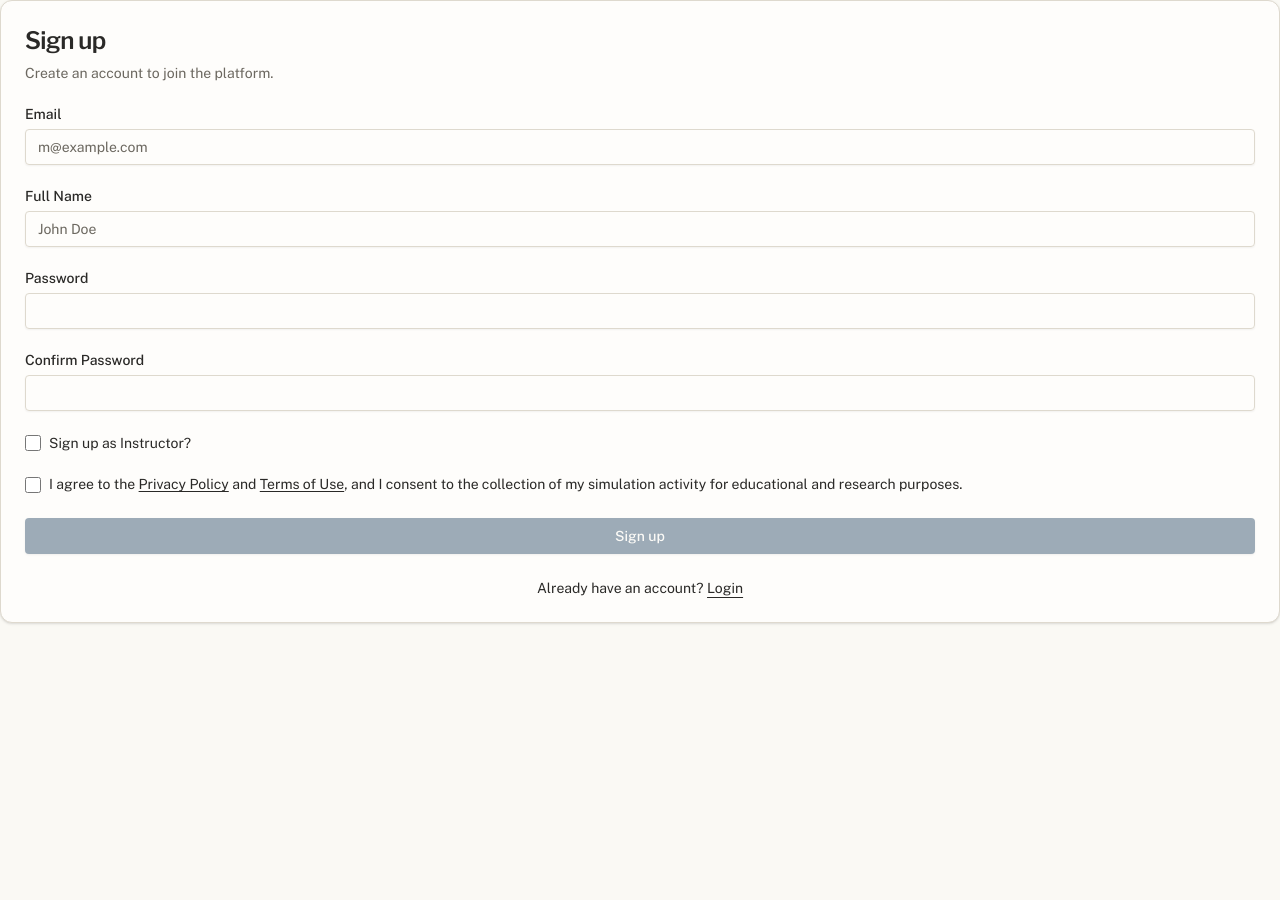
Test case: SignUpForm Component › prevents submit when passwords do not match
The image size is (1280, 900).
Type "Test User" into the field labelled "Full Name" at (640, 229), box [25,211,1255,247]
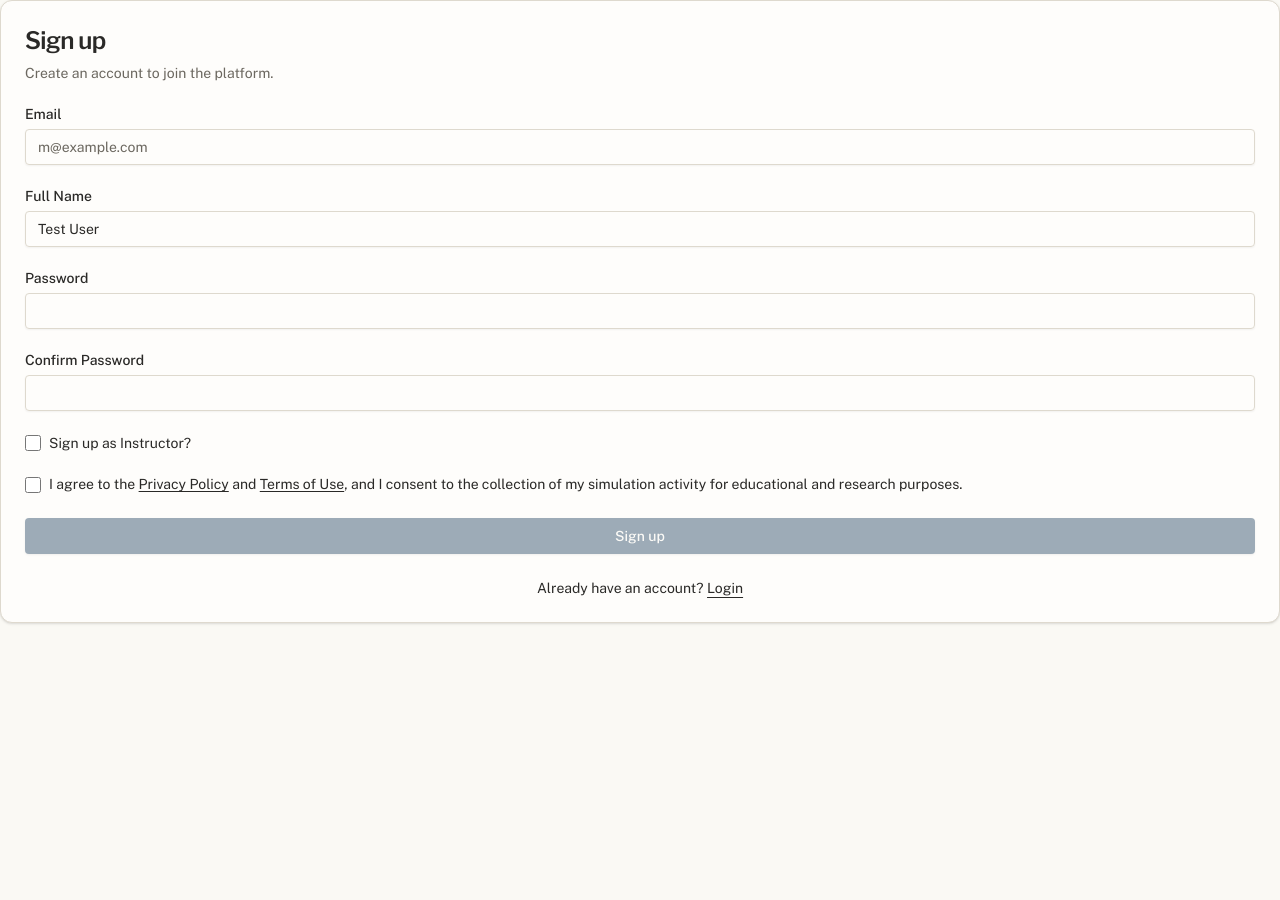
Type "test@example.com" into the field labelled "Email" at (640, 147), box [25,129,1255,165]
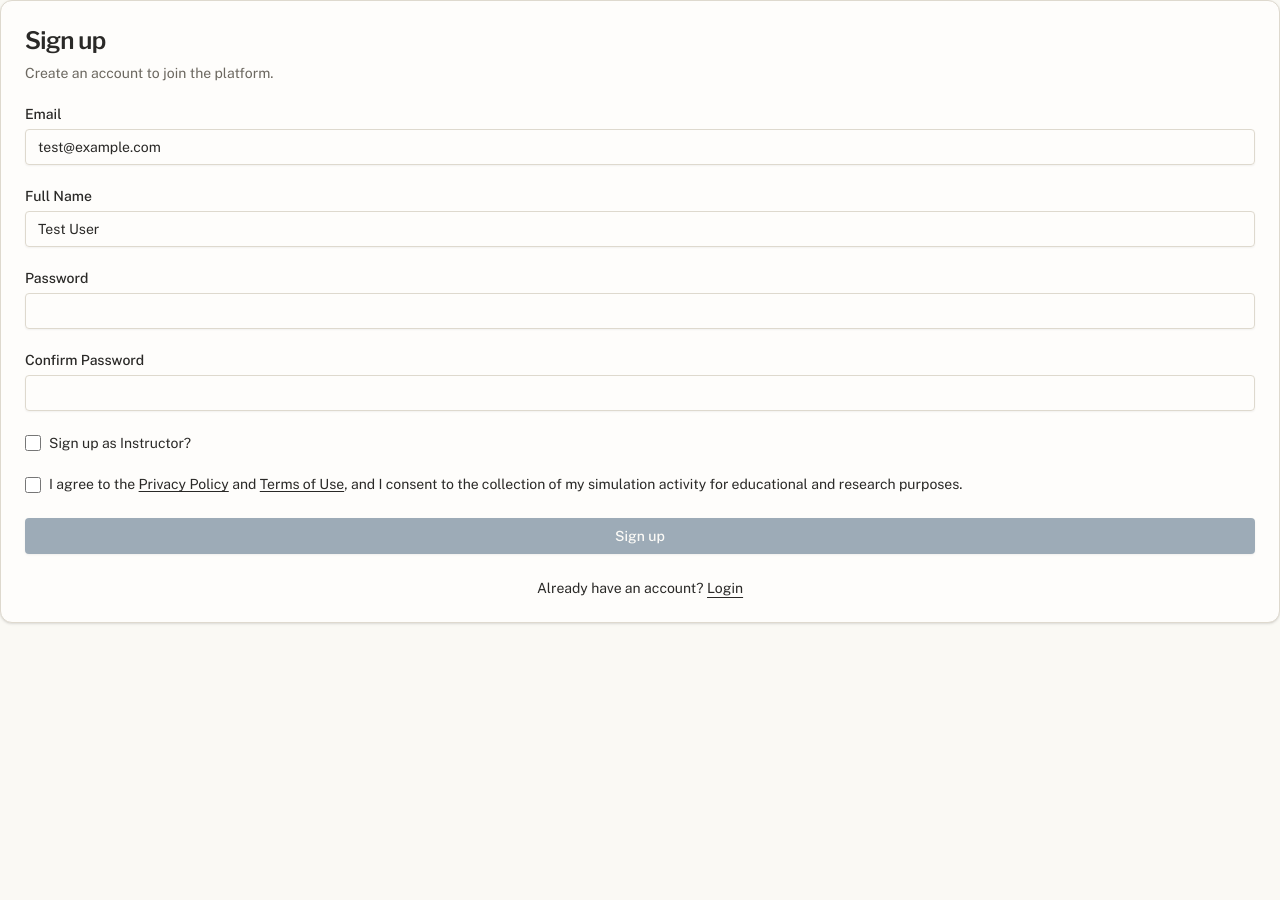
Type "password123" into the password field labelled "Password" at (640, 311), box [25,293,1255,329]
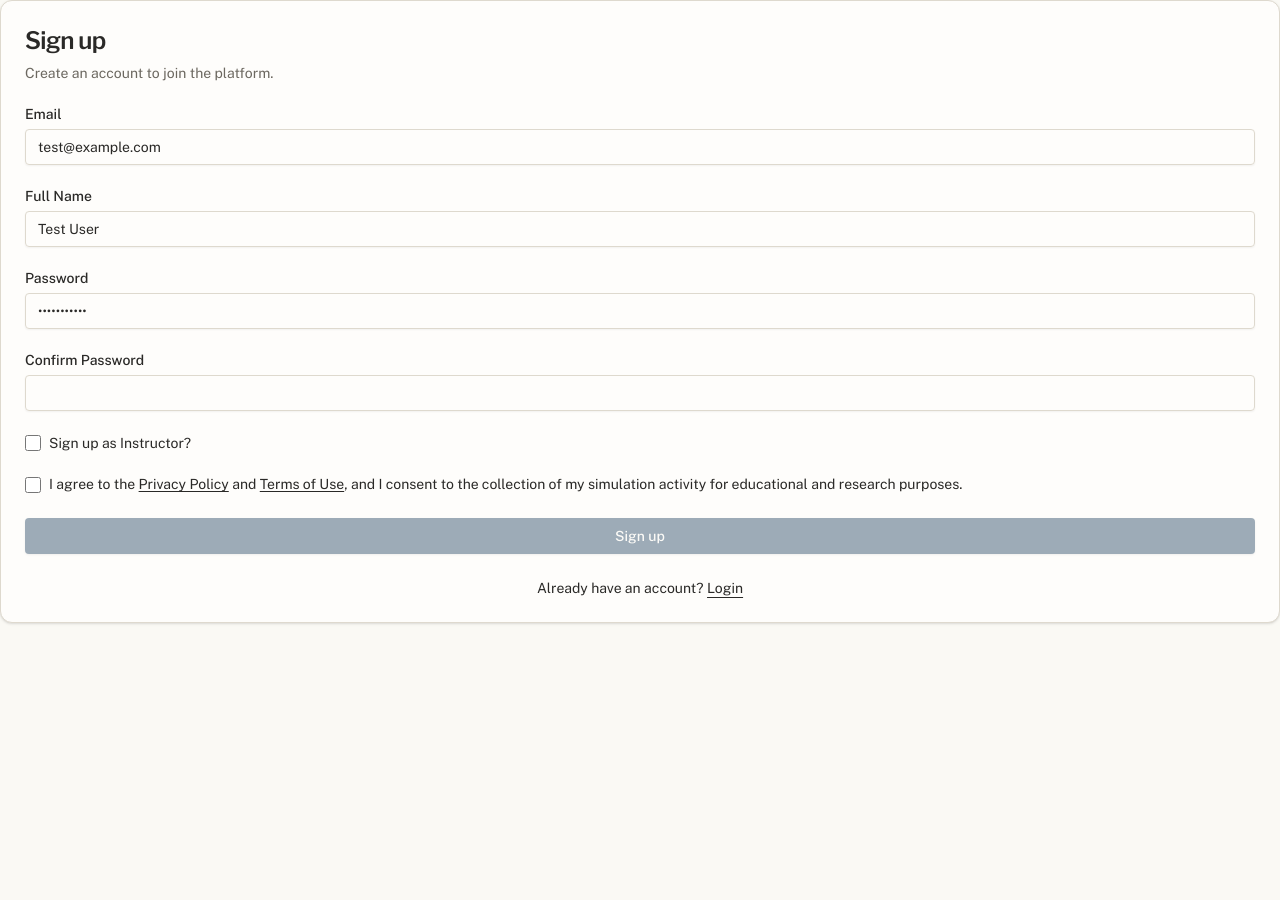
Type "different-password" into the password field labelled "Confirm Password" at (640, 393), box [25,375,1255,411]
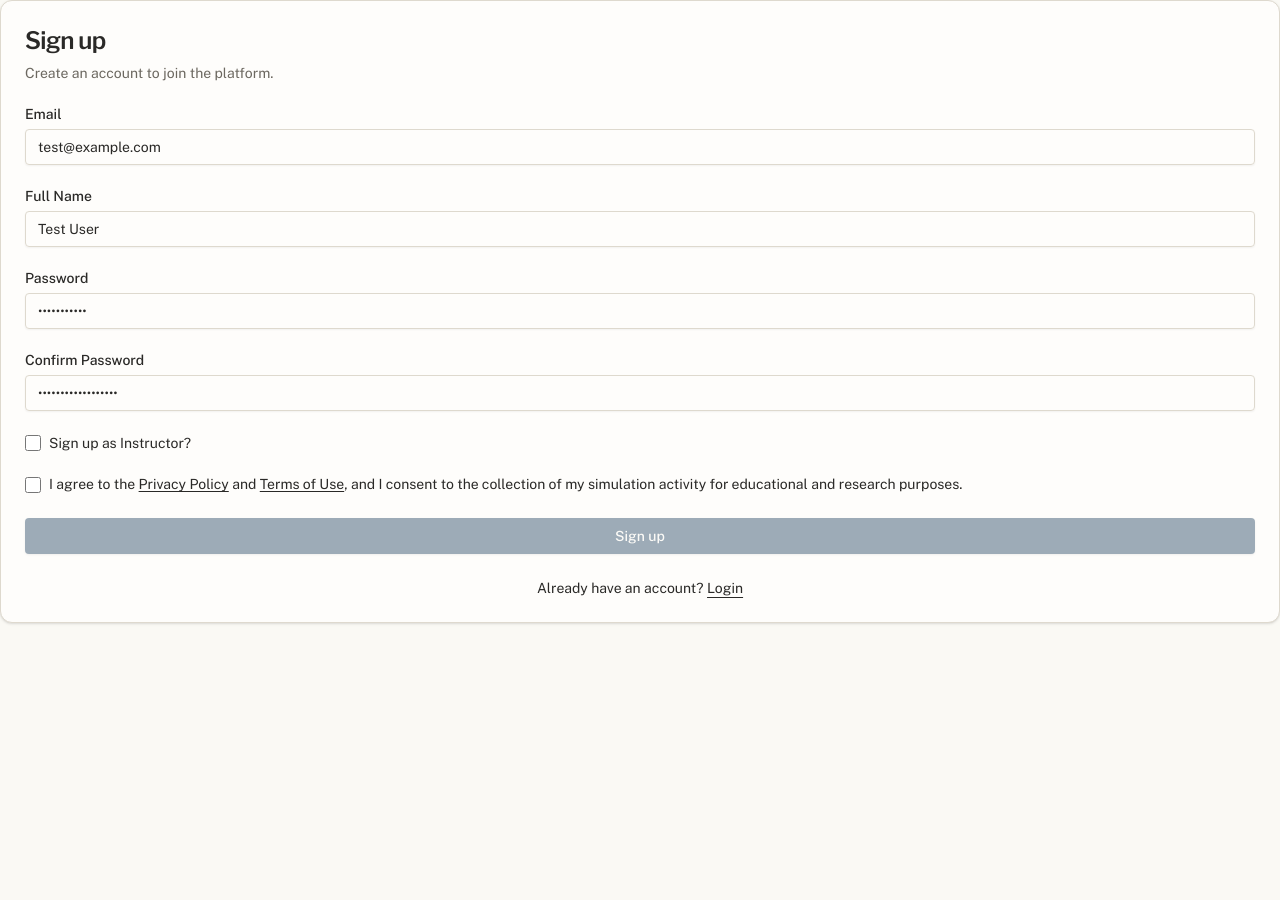
Click the checkbox labelled "I agree to the" at (33, 485), box [25,477,41,493]
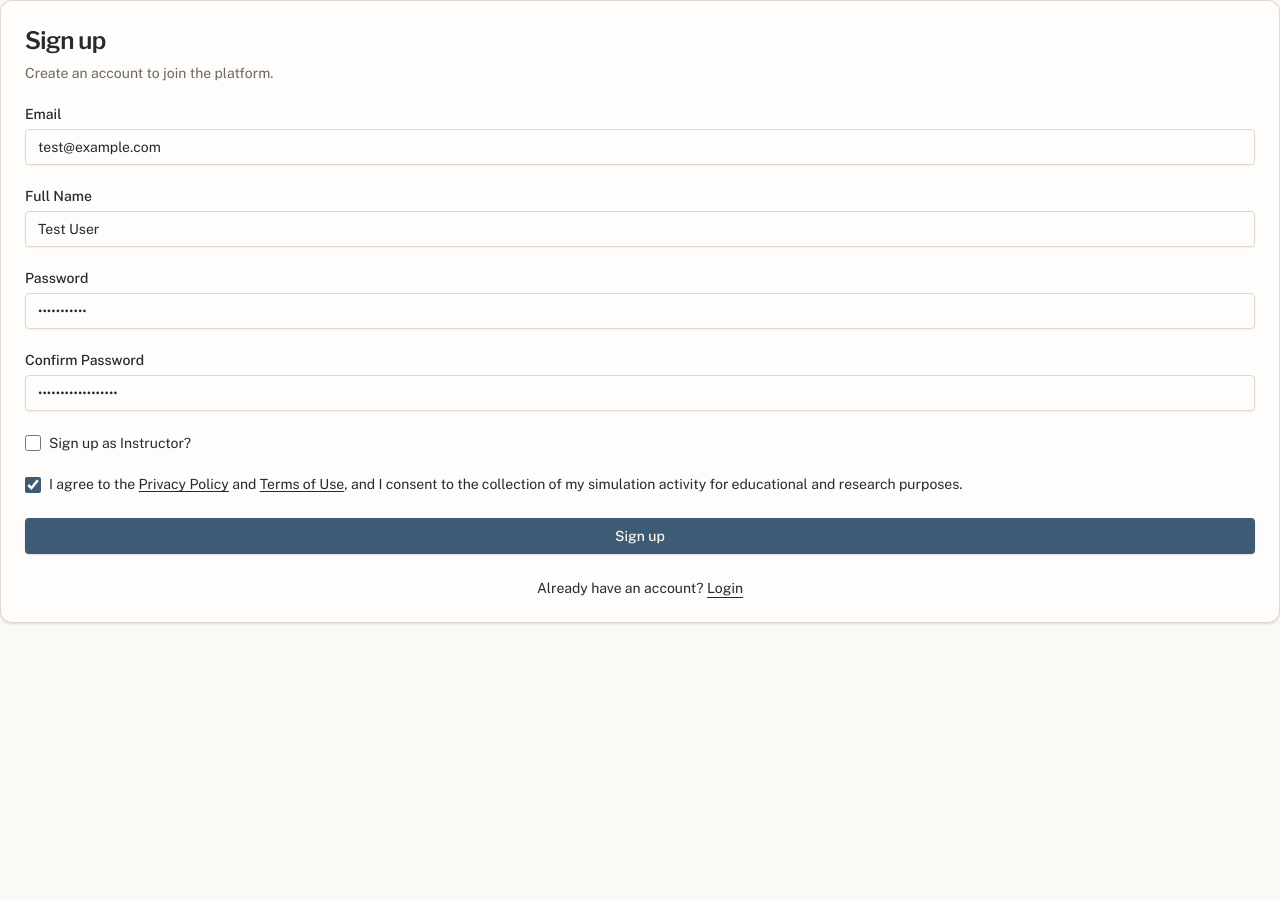
Submit the form "Sign up", box [25,107,1255,598]
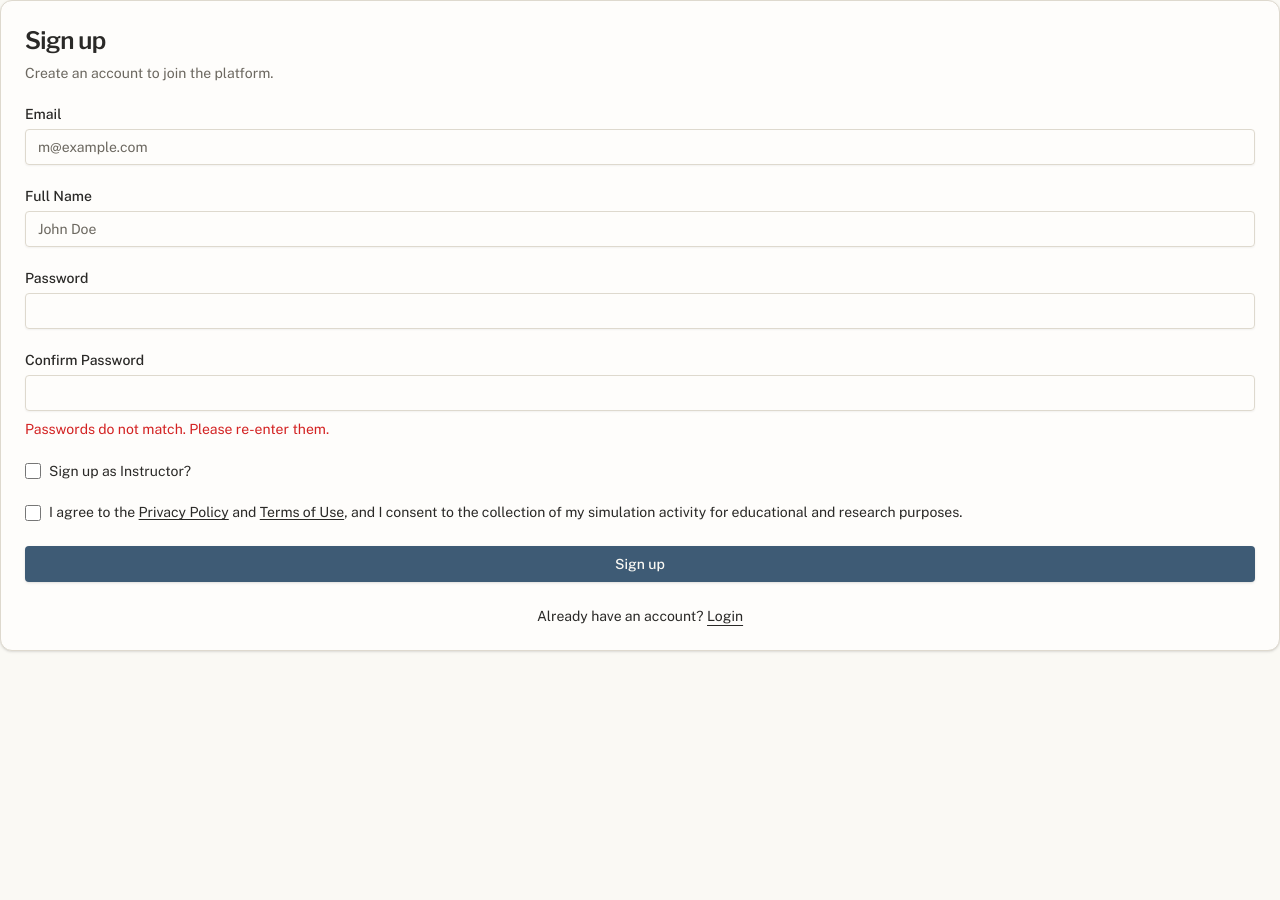
expect the text "Passwords do not match. Please re-enter them." is shown: met, box [25,421,329,437]
